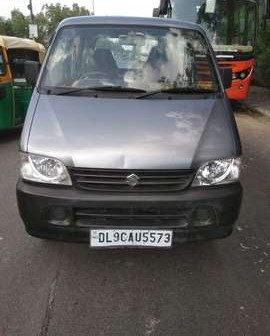DL9CAU5573: (90, 228, 171, 246)
